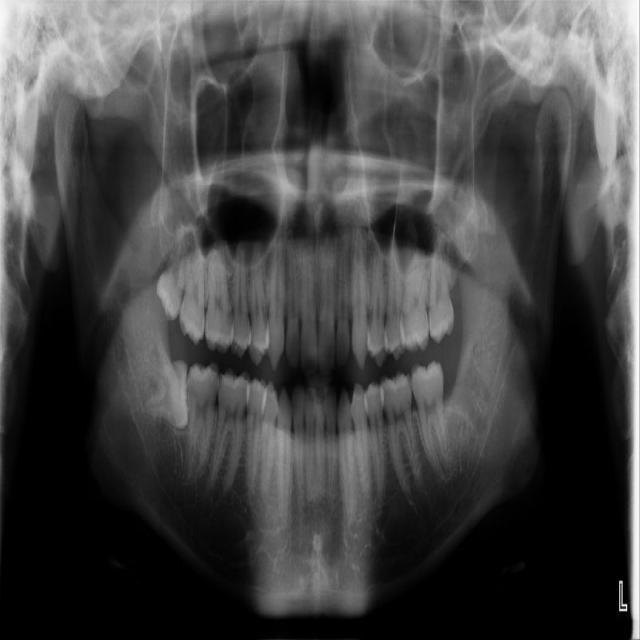3M ESPE Implant: (151, 222, 195, 324)
73: (618, 585, 621, 603)
BioHorizons Implant: (427, 222, 456, 344)
Blue Sky Bio Implant: (409, 359, 452, 475)
Caries: (178, 226, 207, 345)
Implant: (182, 361, 220, 482)
Keystone Dental Implant: (142, 359, 193, 430)
